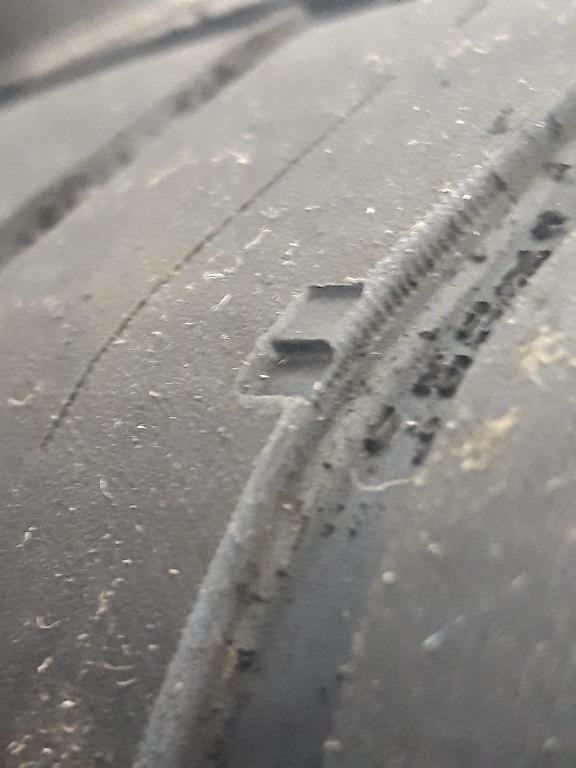temoin:25: (221, 267, 402, 436)
